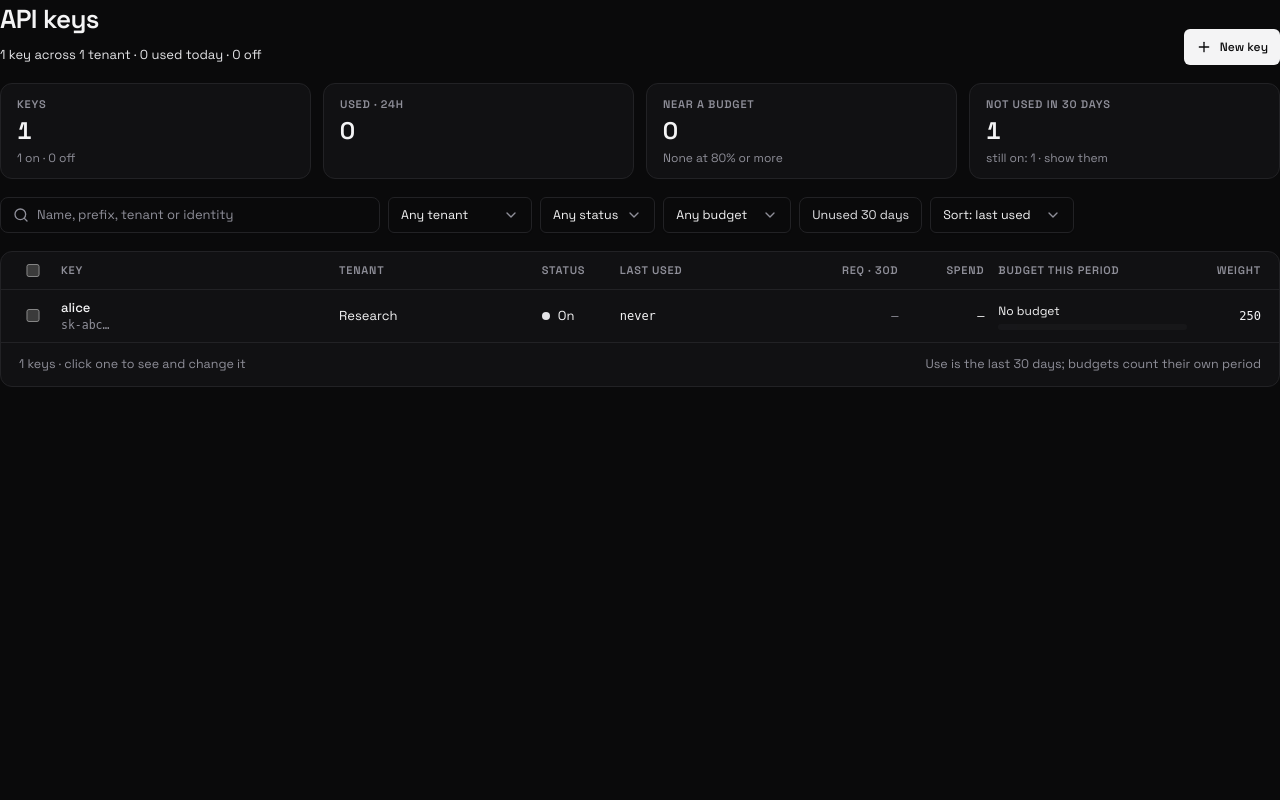
Test: keys › offers a new key's fairshare weight and per-model cap
Click the button "New key": (1232, 46) left=1184, top=28, right=1279, bottom=64
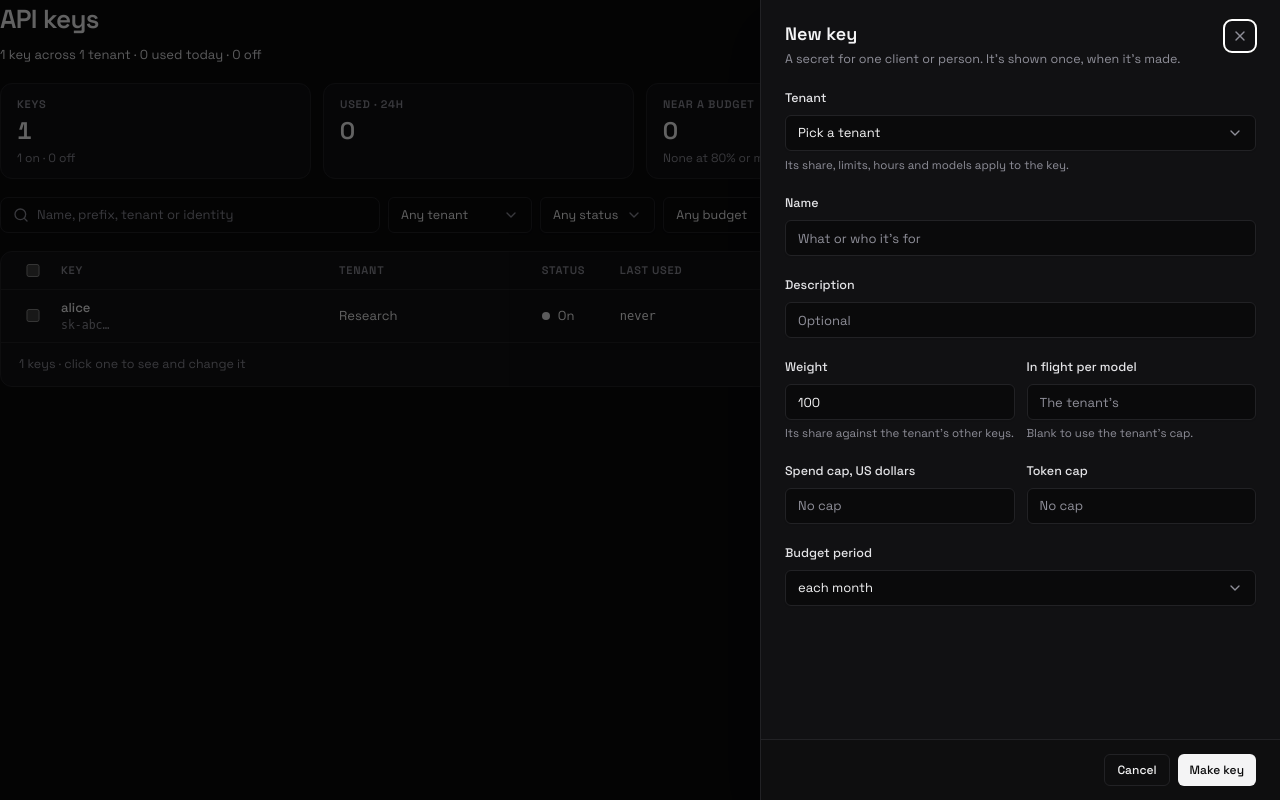
Result: the number field named "weight" holds "100" at left=785, top=384, right=1014, bottom=420
Result: the number field named "max_in_flight" is shown at left=1026, top=384, right=1256, bottom=420
